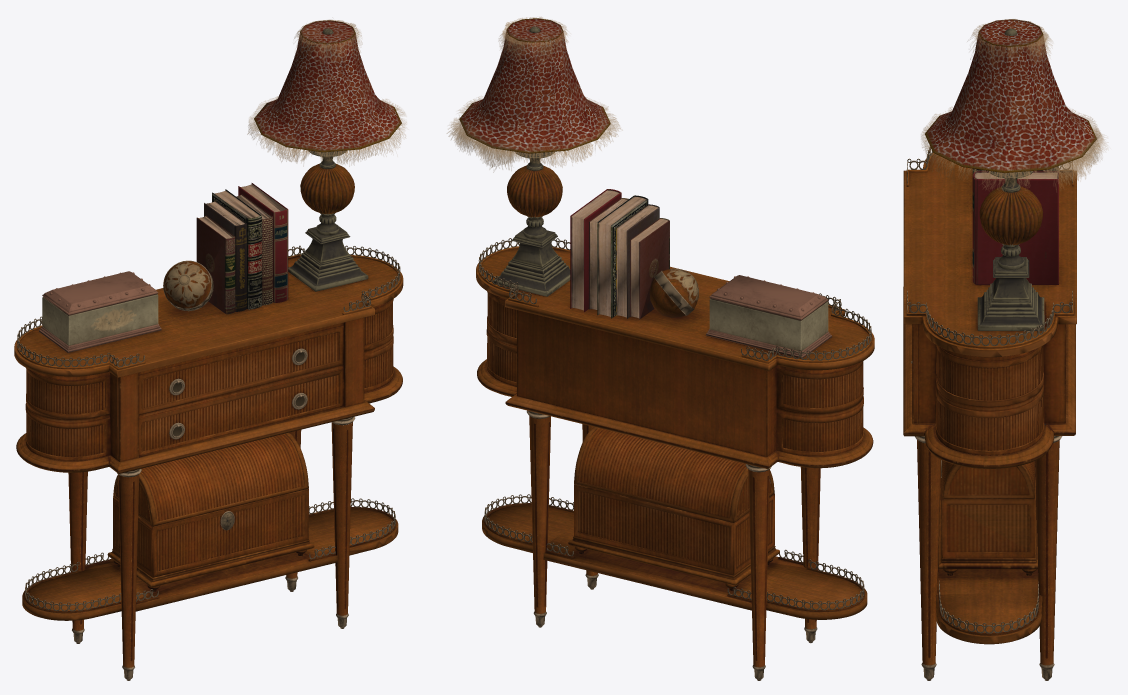
File: small_table.glb
3 views of the same model, side by side, from view 1: azimuth 30°, elevation 25°; view 2: azimuth 150°, elevation 25°; view 3: azimuth 270°, elevation 25° (orthographic). The views are drawn at different scales.
Visible parts, largest first — view 1: Object_9, Object_21, Object_6; view 2: Object_9, Object_21, Object_6; view 3: Object_9, Object_21, Object_6.
Boxes of the visible parts, x1,y1,x2,y2 form: Object_9: (14, 183, 403, 667); Object_21: (17, 20, 401, 680); Object_6: (247, 19, 406, 166); Object_9: (476, 189, 874, 667); Object_21: (459, 18, 871, 680); Object_6: (447, 17, 622, 172); Object_9: (903, 152, 1076, 665); Object_21: (907, 19, 1096, 680); Object_6: (921, 19, 1107, 191).
Size of the model in its own units: 1268 by 1783 by 509.
Materials: 3 (3 with a texture image).
